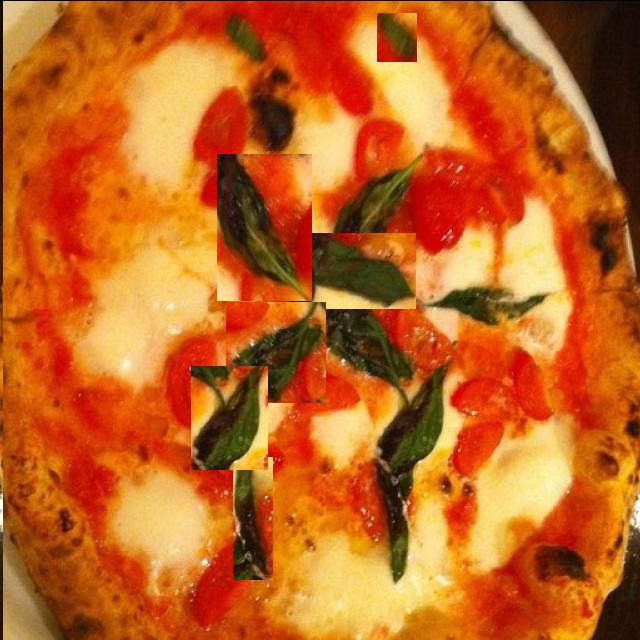basil: (217, 153, 312, 300), (226, 301, 326, 402), (290, 232, 416, 308), (191, 365, 268, 469), (96, 284, 216, 325), (233, 456, 273, 579), (377, 12, 417, 61)
pizza: (3, 0, 640, 639)
